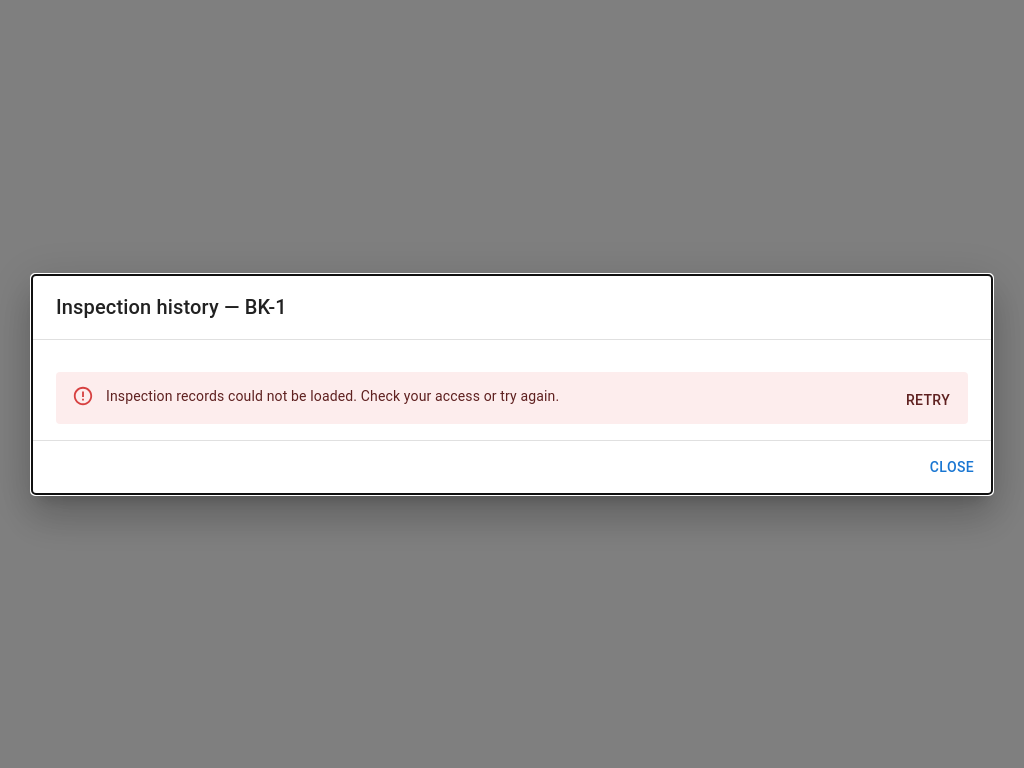
Test: retries inaccessible inspection history and shows empty stages
The image size is (1024, 768).
Expected: the text "Inspection records could not be loaded. Check your access or try again." is shown, x1=106 y1=386 x2=559 y2=406
Click the button "Retry" at {"x": 928, "y": 400}, box x1=896 y1=382 x2=960 y2=418
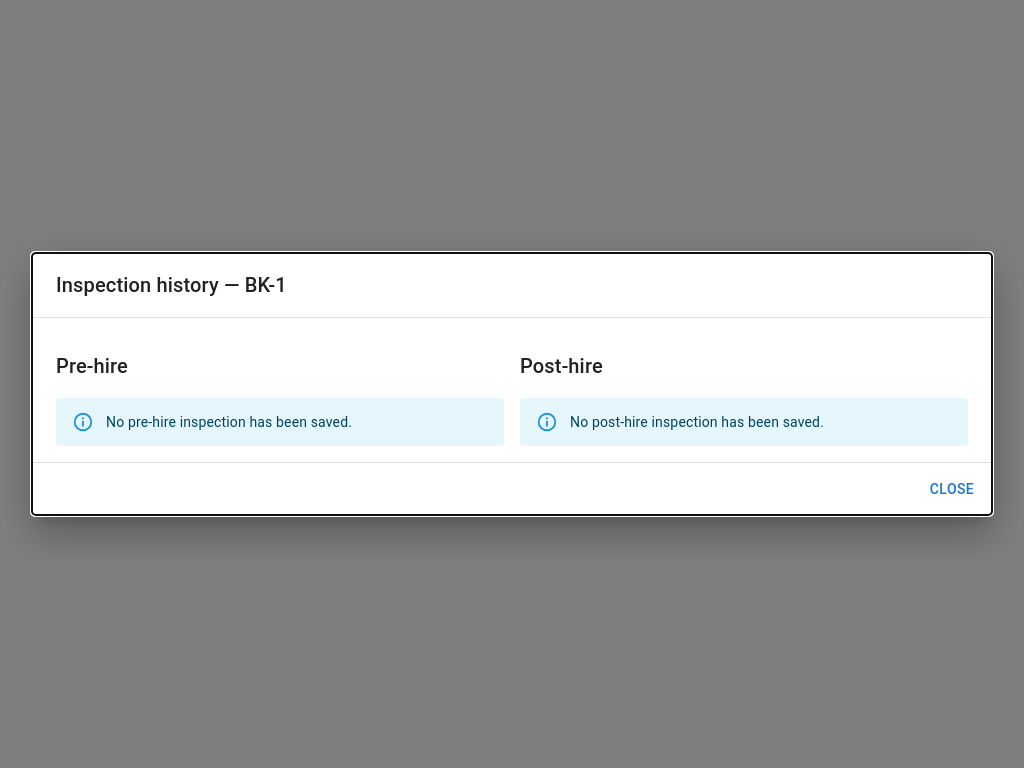
Expected: the text "No pre-hire inspection has been saved." is shown, x1=106 y1=414 x2=352 y2=430
Expected: the text "No post-hire inspection has been saved." is shown, x1=570 y1=414 x2=824 y2=430
